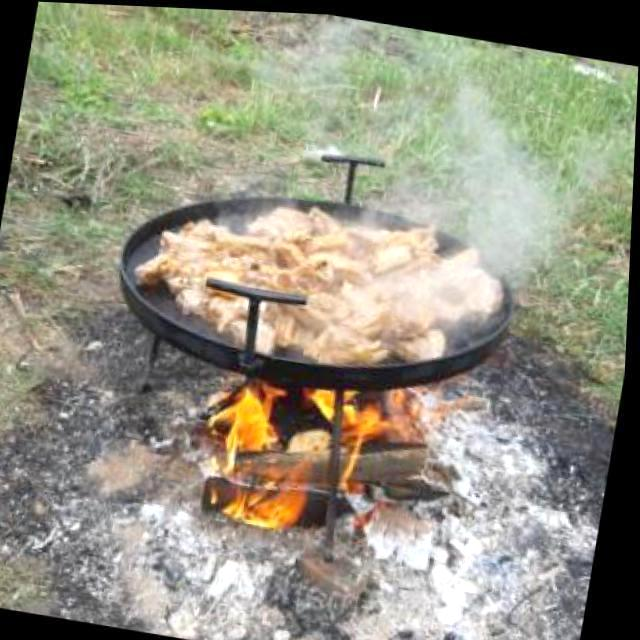fire: (352, 68, 636, 358), (198, 360, 402, 548)
